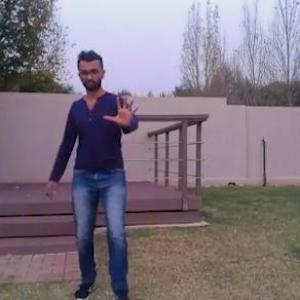follow_hand: (102, 85, 148, 134)
